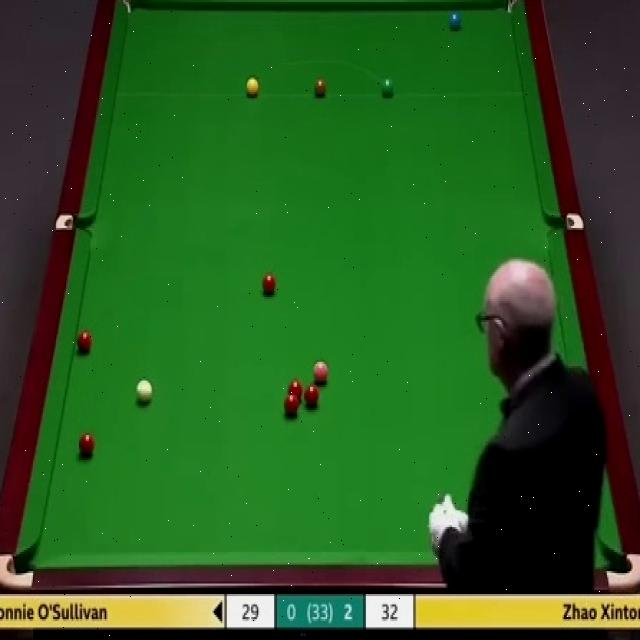blue-ball: (447, 6, 463, 32)
brown-ball: (314, 78, 328, 100)
green-ball: (380, 78, 395, 100)
pink-ball: (310, 360, 329, 386)
red-ball: (78, 431, 96, 460), (261, 272, 278, 297), (76, 329, 92, 355), (286, 379, 304, 402), (283, 394, 300, 418), (303, 384, 320, 407)
white-ball: (134, 378, 152, 408)
yellow-ball: (246, 76, 260, 98)
